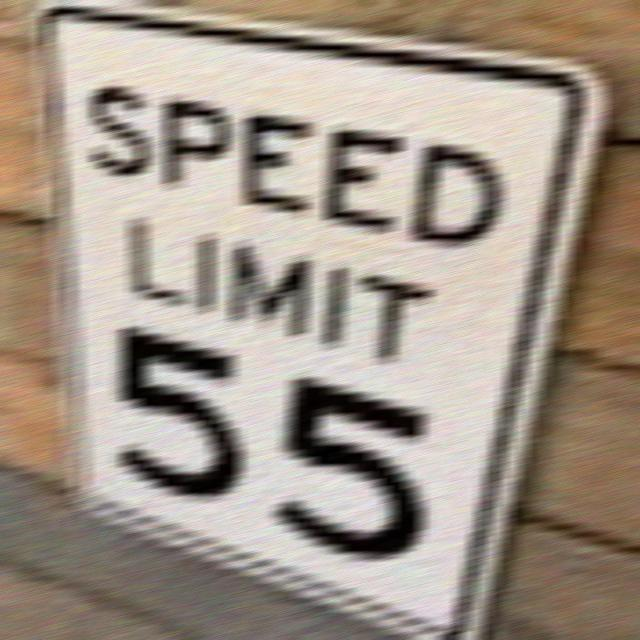speedLimit55: (41, 15, 606, 610)
